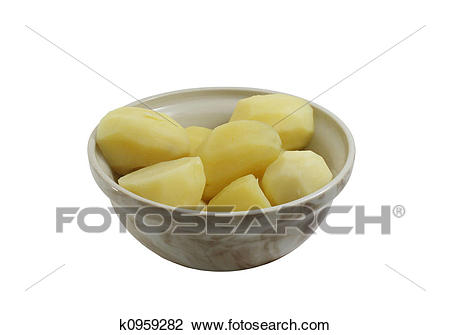boiled potatoes: (107, 91, 324, 208)
